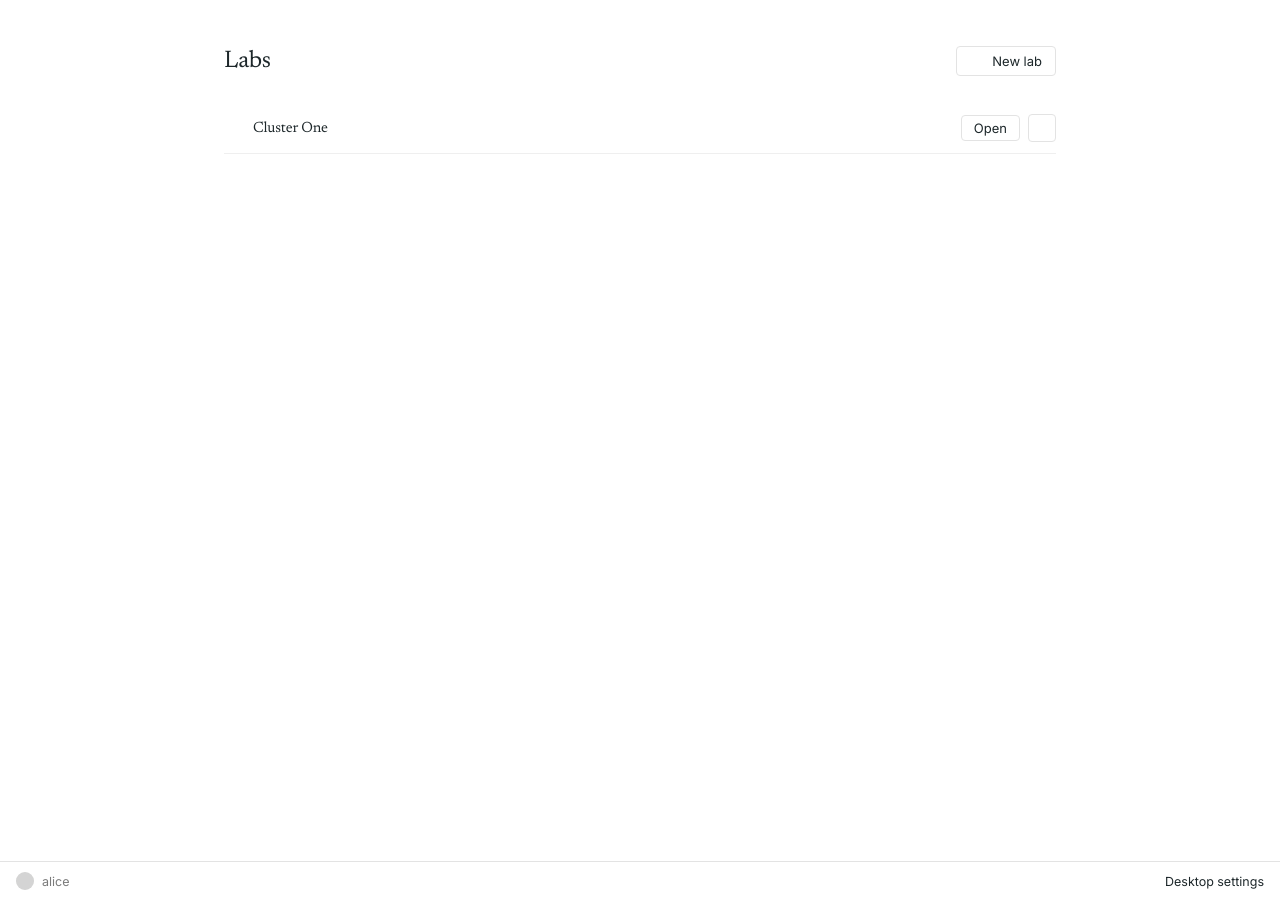
Scenario: App connect phases › host key changed shows the alarm and the removal command
Click the button "Open" at x=990, y=128, box [961, 115, 1020, 141]
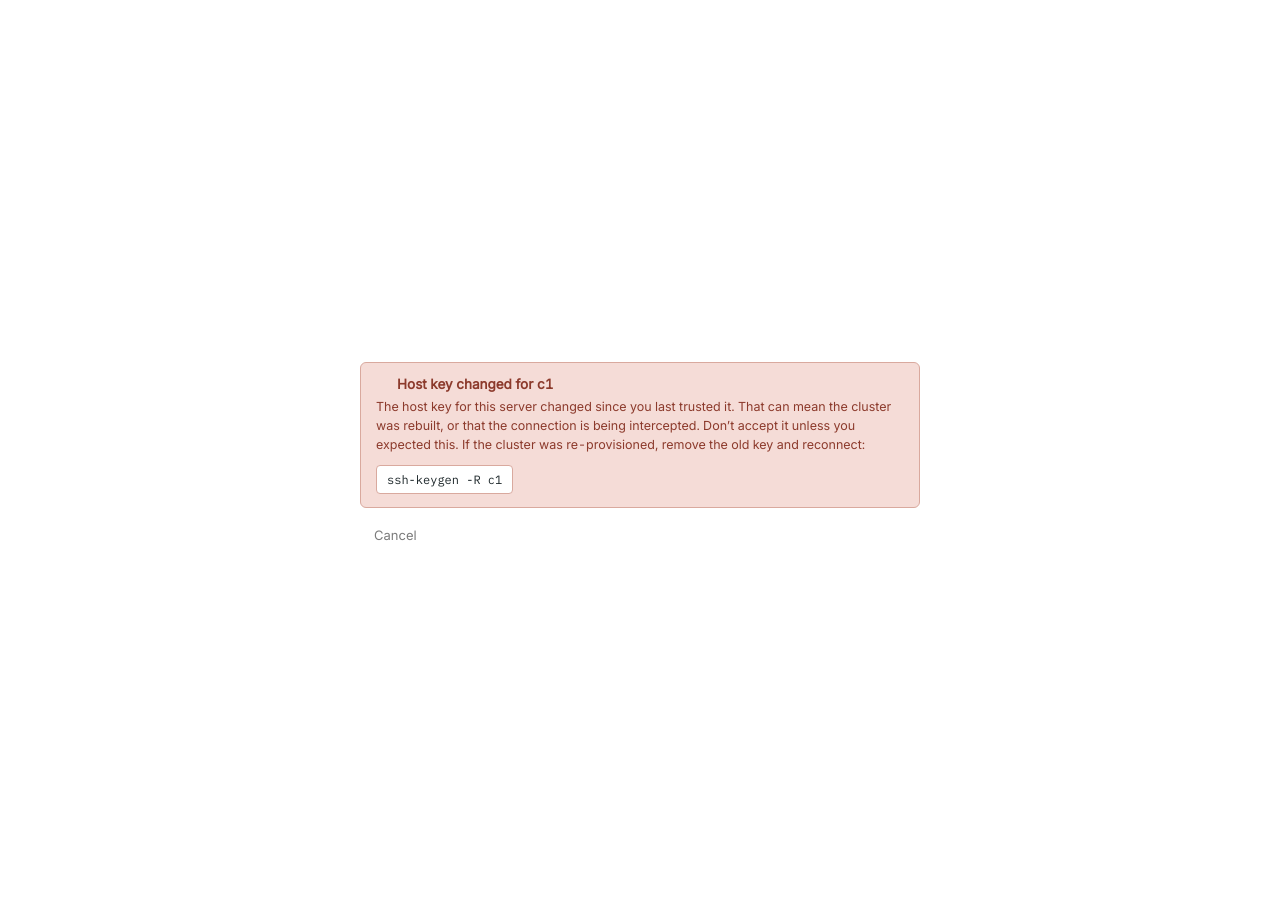
Expected: the text "Host key changed for c1" is shown, [397, 376, 553, 392]
Expected: the text "ssh-keygen -R c1" is shown, [376, 465, 513, 494]
